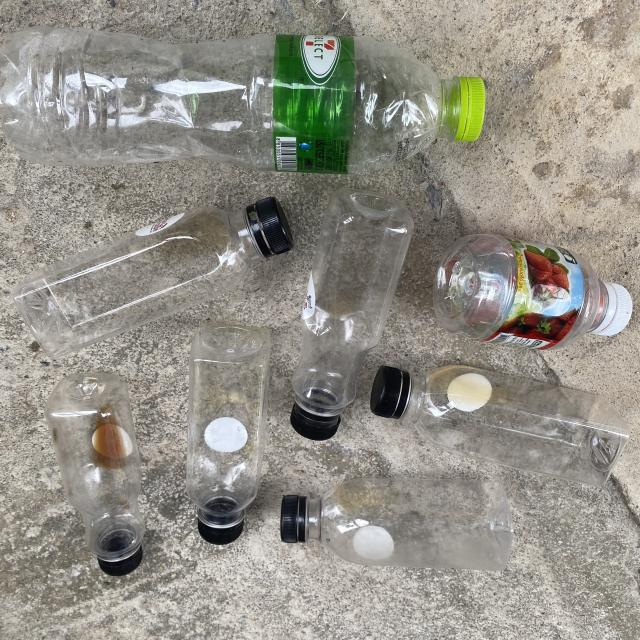plastik: (0, 28, 485, 174), (12, 197, 293, 357), (371, 366, 629, 486), (291, 188, 413, 441), (433, 234, 631, 349), (280, 478, 514, 571), (44, 372, 145, 576), (186, 323, 270, 544)
